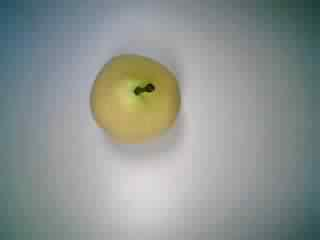pear: (86, 46, 185, 149)
